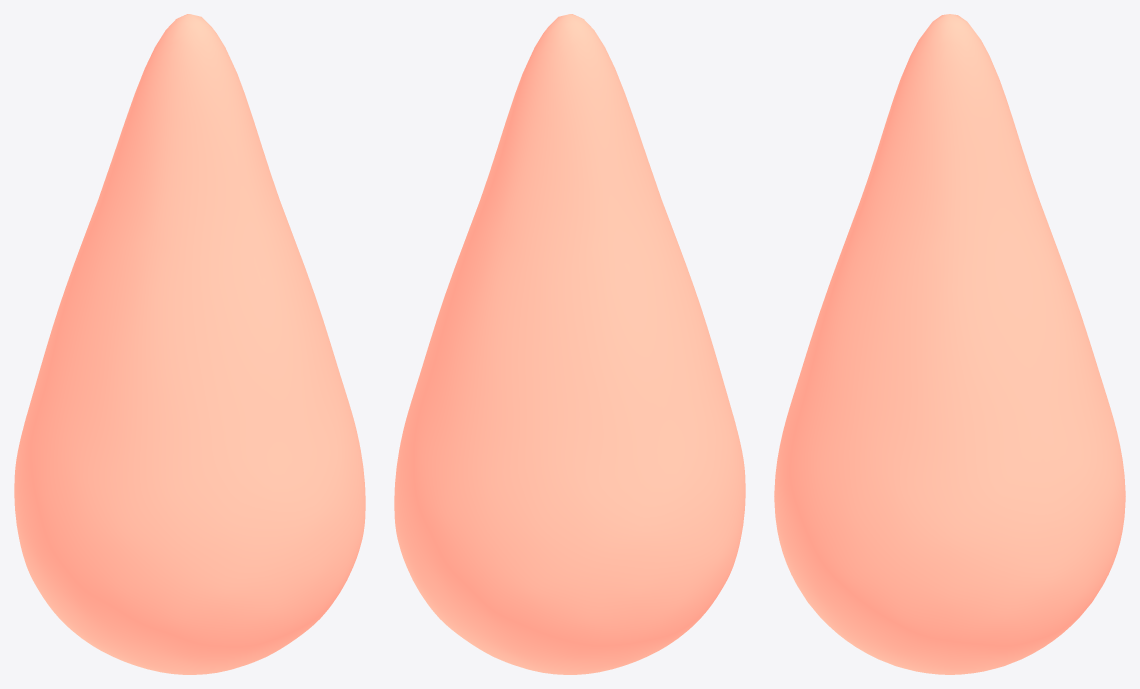
File: Fire.fbx
The picture shows the model from 3 angles, left to right: view 1: azimuth 30°, elevation 25°; view 2: azimuth 150°, elevation 25°; view 3: azimuth 270°, elevation 25°; orthographic projection.
Parts seen in each view (by area): view 1: Fire; view 2: Fire; view 3: Fire.
Part boxes in pixels (bbox=[...]): Fire: bbox=[14, 14, 365, 674]; Fire: bbox=[394, 14, 745, 674]; Fire: bbox=[774, 14, 1125, 674].
Bounding box in the file's own units: 185 × 374 × 185.
